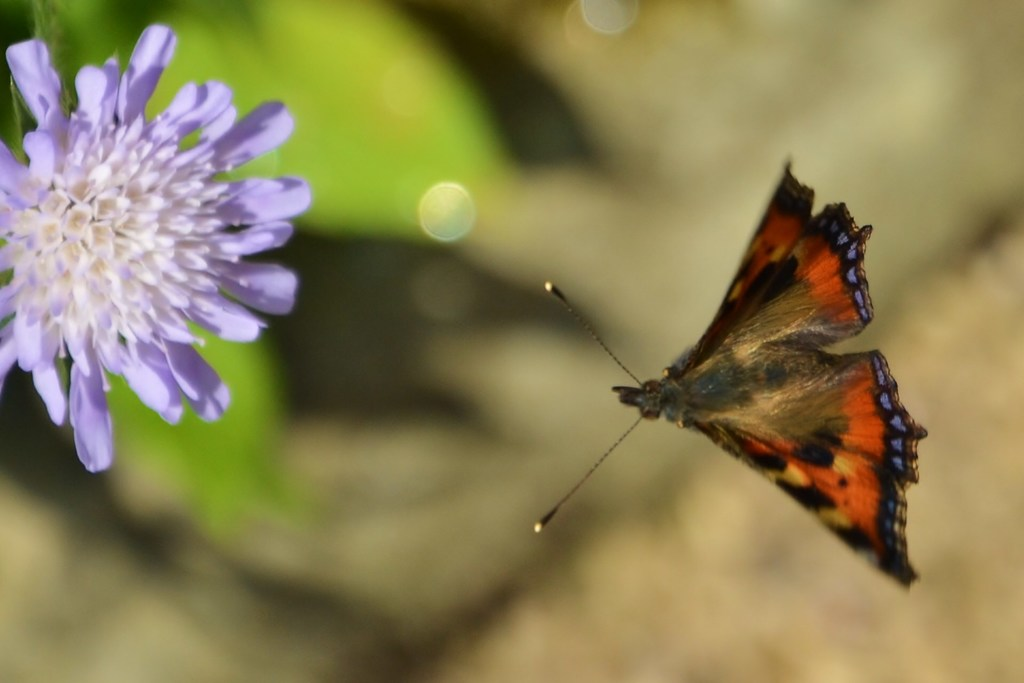Butterfly: (520, 179, 957, 628)
